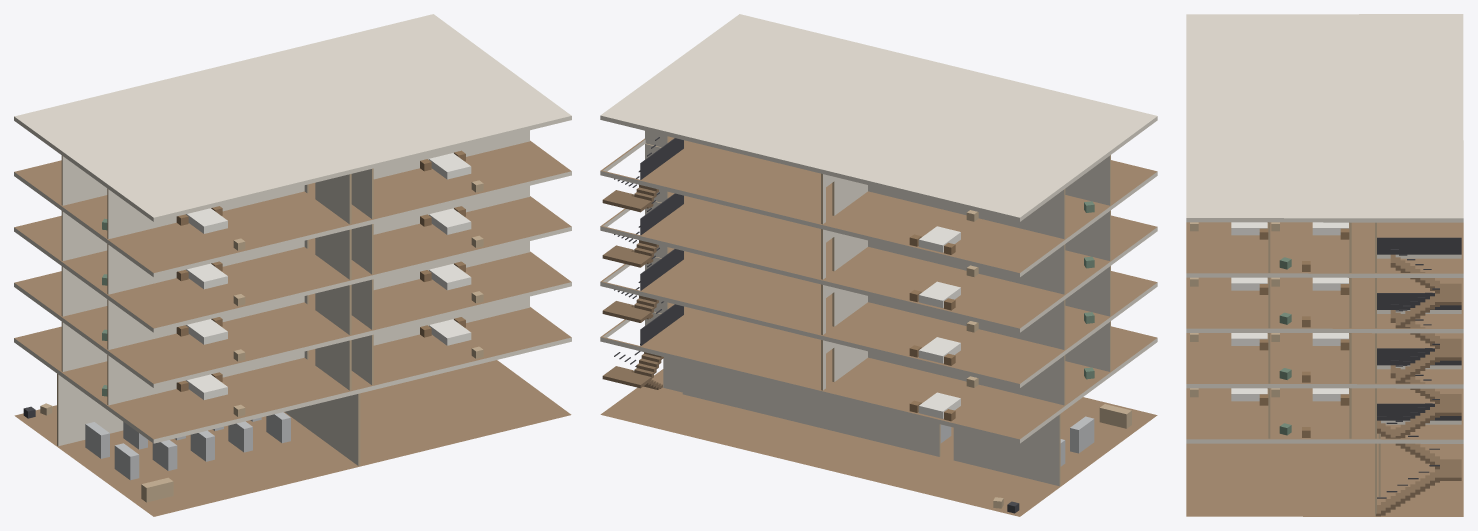
Rendered from interior.glb.
The picture shows the model from 3 angles, left to right: view 1: azimuth 30°, elevation 25°; view 2: azimuth 150°, elevation 25°; view 3: azimuth 270°, elevation 25°; orthographic projection.
Parts seen in each view (by area): view 1: slabs, partitions, coarse-s0, coarse-s4, coarse-s3, coarse-s1, coarse-s2; view 2: slabs, partitions, stair, coarse-s0, coarse-s2, coarse-s4, coarse-s1, coarse-s3; view 3: slabs, stair, partitions, coarse-s3, coarse-s1, coarse-s4, coarse-s2.
Part boxes in pixels (box(x1,y1,x2,y2)): slabs: box(14, 14, 571, 516); partitions: box(57, 130, 529, 465); coarse-s0: box(23, 403, 290, 502); coarse-s4: box(102, 150, 483, 250); coarse-s3: box(102, 206, 483, 305); coarse-s1: box(102, 317, 483, 416); coarse-s2: box(102, 261, 483, 361); slabs: box(600, 14, 1157, 516); partitions: box(645, 131, 1110, 486); stair: box(602, 137, 683, 389); coarse-s0: box(940, 404, 1131, 513); coarse-s2: box(909, 312, 1094, 365); coarse-s4: box(909, 201, 1094, 254); coarse-s1: box(909, 367, 1094, 421); coarse-s3: box(909, 256, 1094, 310); slabs: box(1186, 14, 1463, 516); stair: box(1376, 237, 1461, 516); partitions: box(1268, 222, 1380, 516); coarse-s3: box(1190, 277, 1349, 327); coarse-s1: box(1190, 388, 1349, 437); coarse-s4: box(1190, 222, 1349, 271); coarse-s2: box(1190, 333, 1349, 382).
Bounding box in the file's own units: 26.54 × 18.11 × 15.22.
